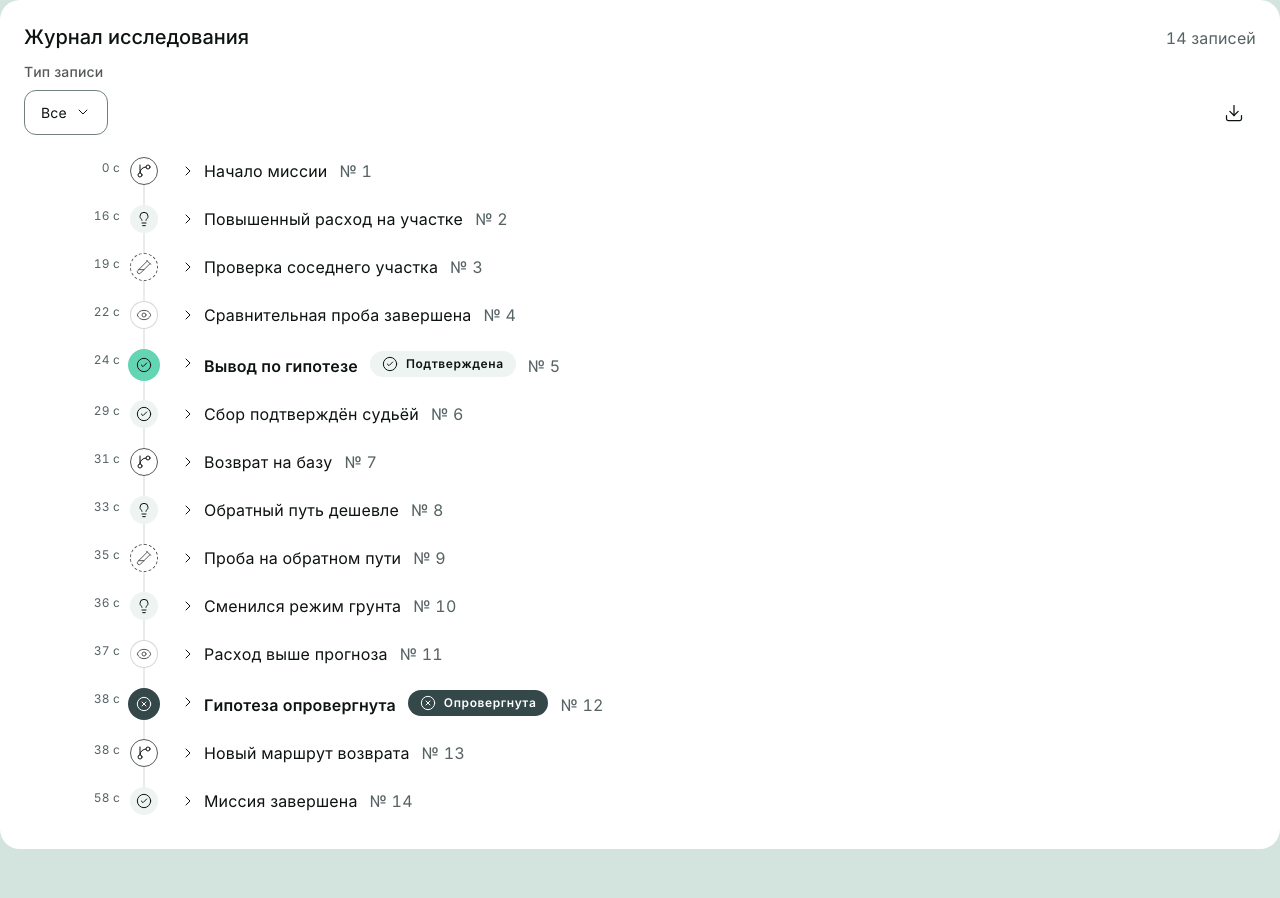
journal states › hands the export over and confirms it
The width and height of the screenshot is (1280, 898).
Click the button named "Экспорт журнала" at (1234, 113), box [1212,91,1256,135]
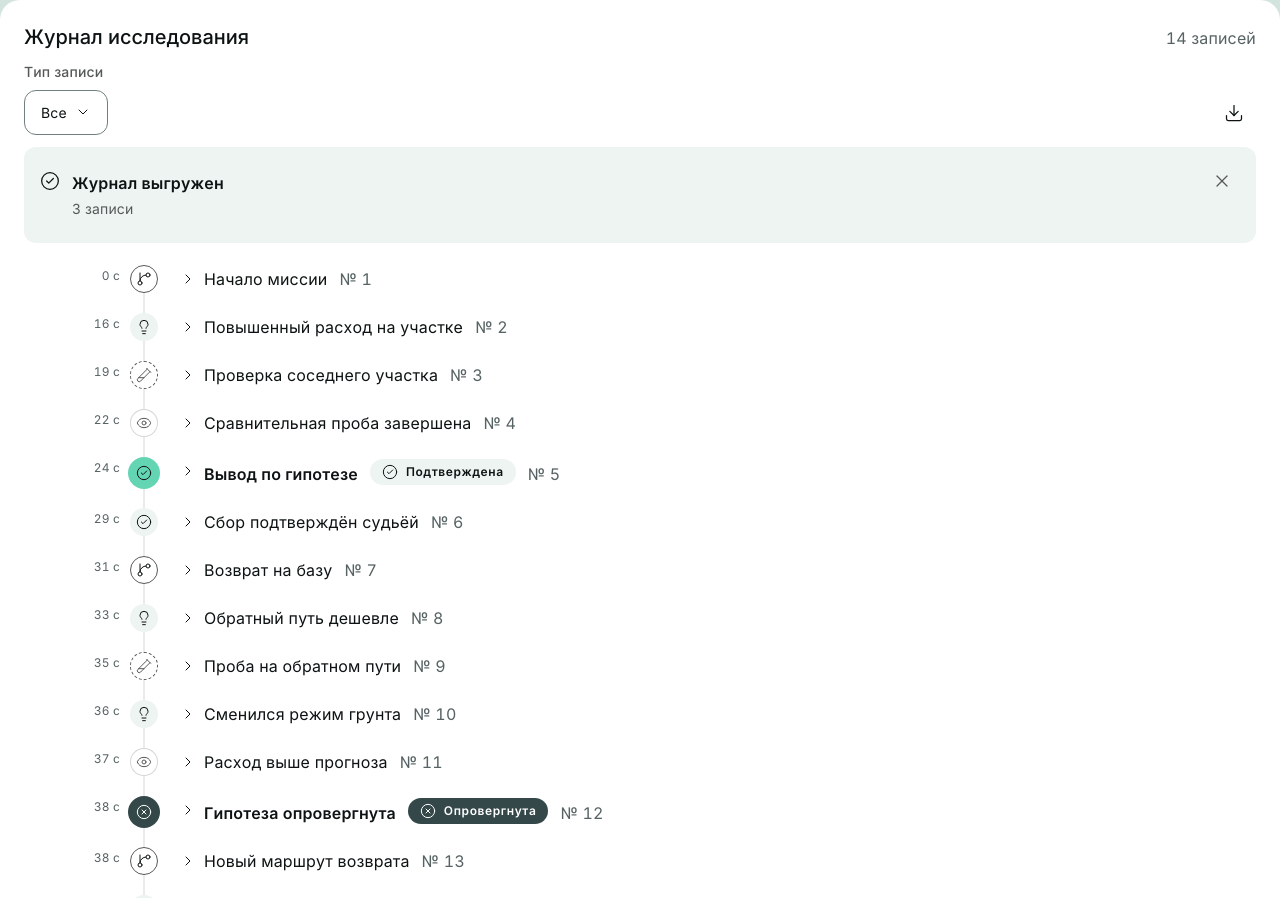
Expected: the text "Журнал выгружен" is shown, [72,173,224,193]
